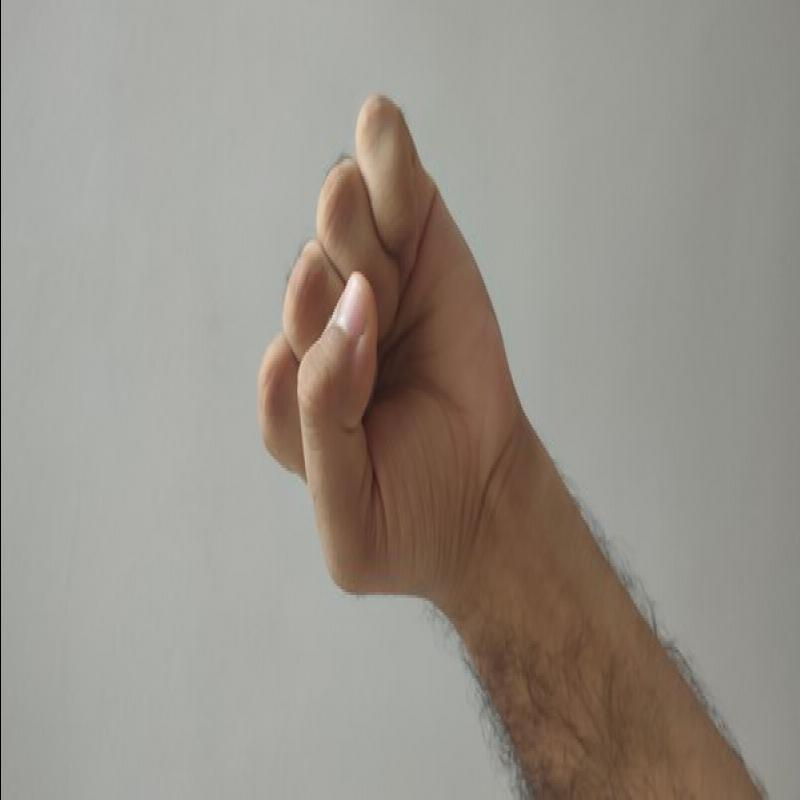Mushti: (229, 81, 523, 618)
